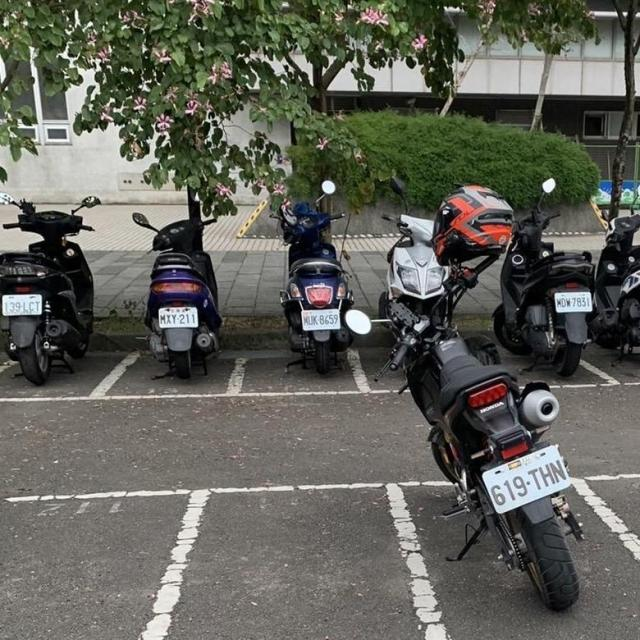W: (478, 442, 574, 514), (152, 302, 203, 332), (550, 287, 599, 316), (294, 304, 344, 332), (0, 290, 46, 319)
